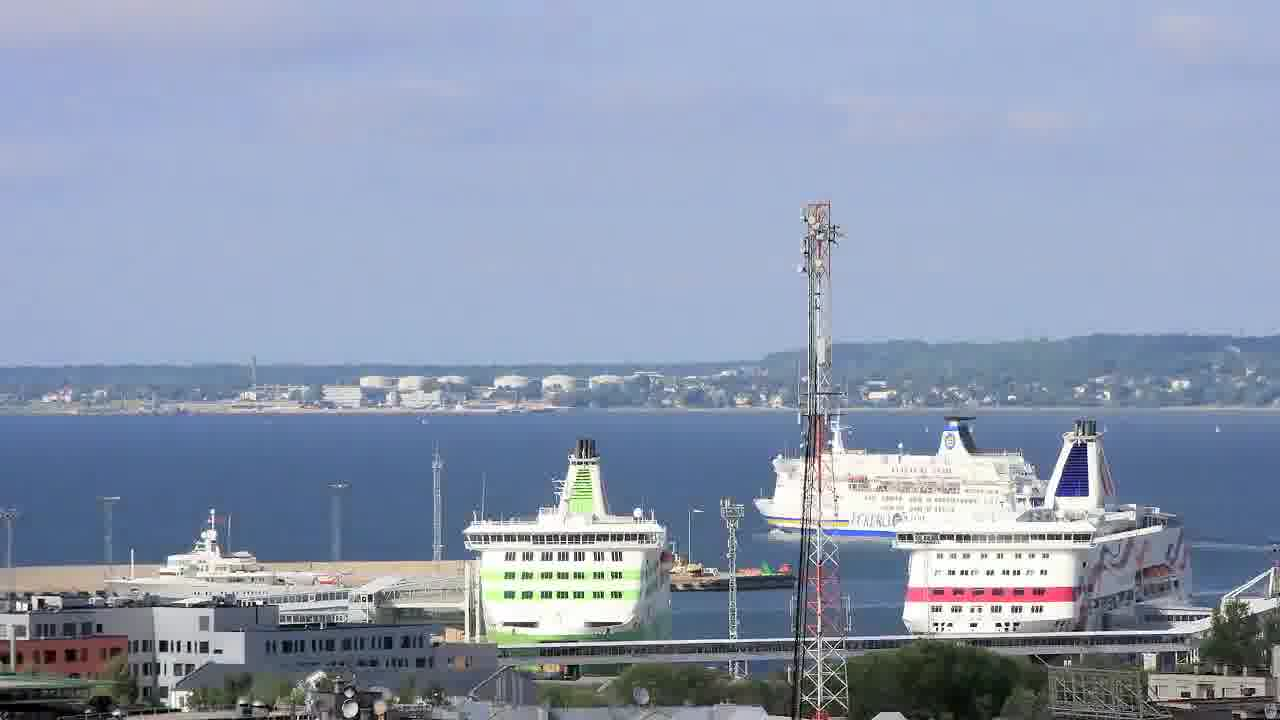type-3: (868, 415, 1225, 638), (436, 434, 694, 670), (755, 411, 1087, 544), (83, 513, 385, 623)
